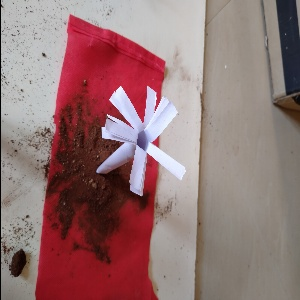weed: (90, 82, 191, 201)
